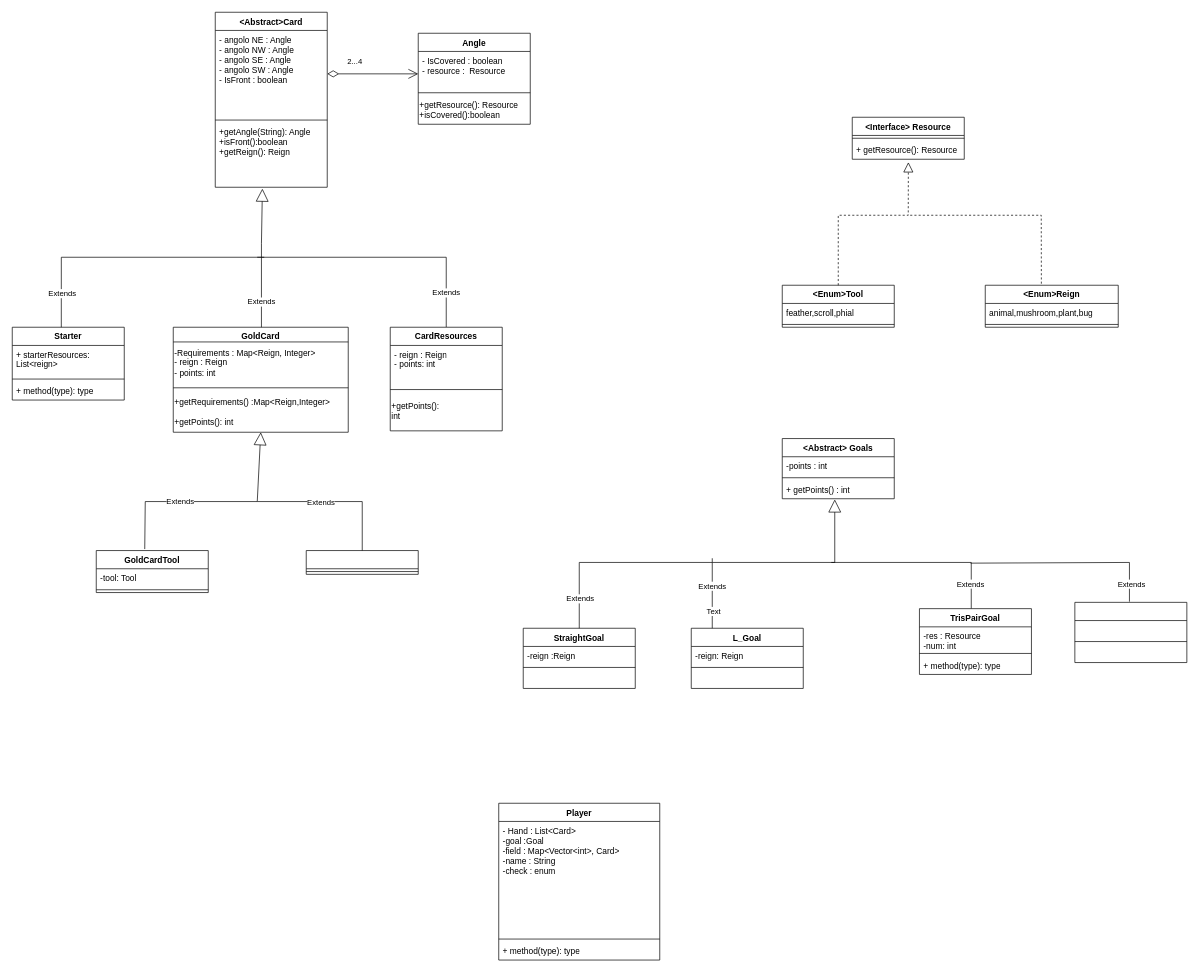
Image size: 1199x974. Some labels were removed from this diagram. Each missing label, with the centre of its shape:
DistinctGoal: (x=1130, y=632)
GoldCardAngles: (x=362, y=562)
